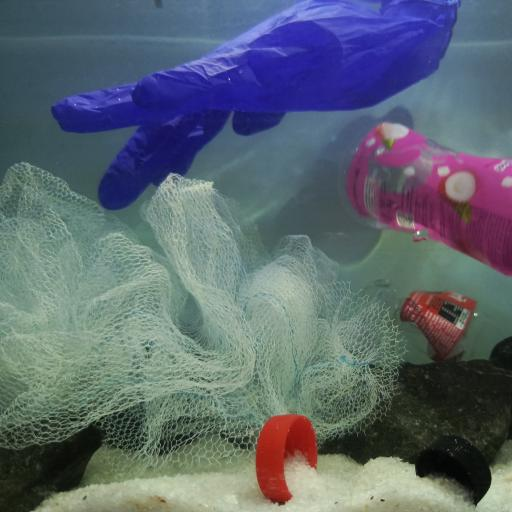bottle_cap: (416, 434, 492, 510), (256, 413, 318, 504)
glove: (51, 0, 462, 211)
net: (120, 172, 407, 464)
plastic_bottle: (338, 120, 512, 278), (354, 276, 510, 362)
